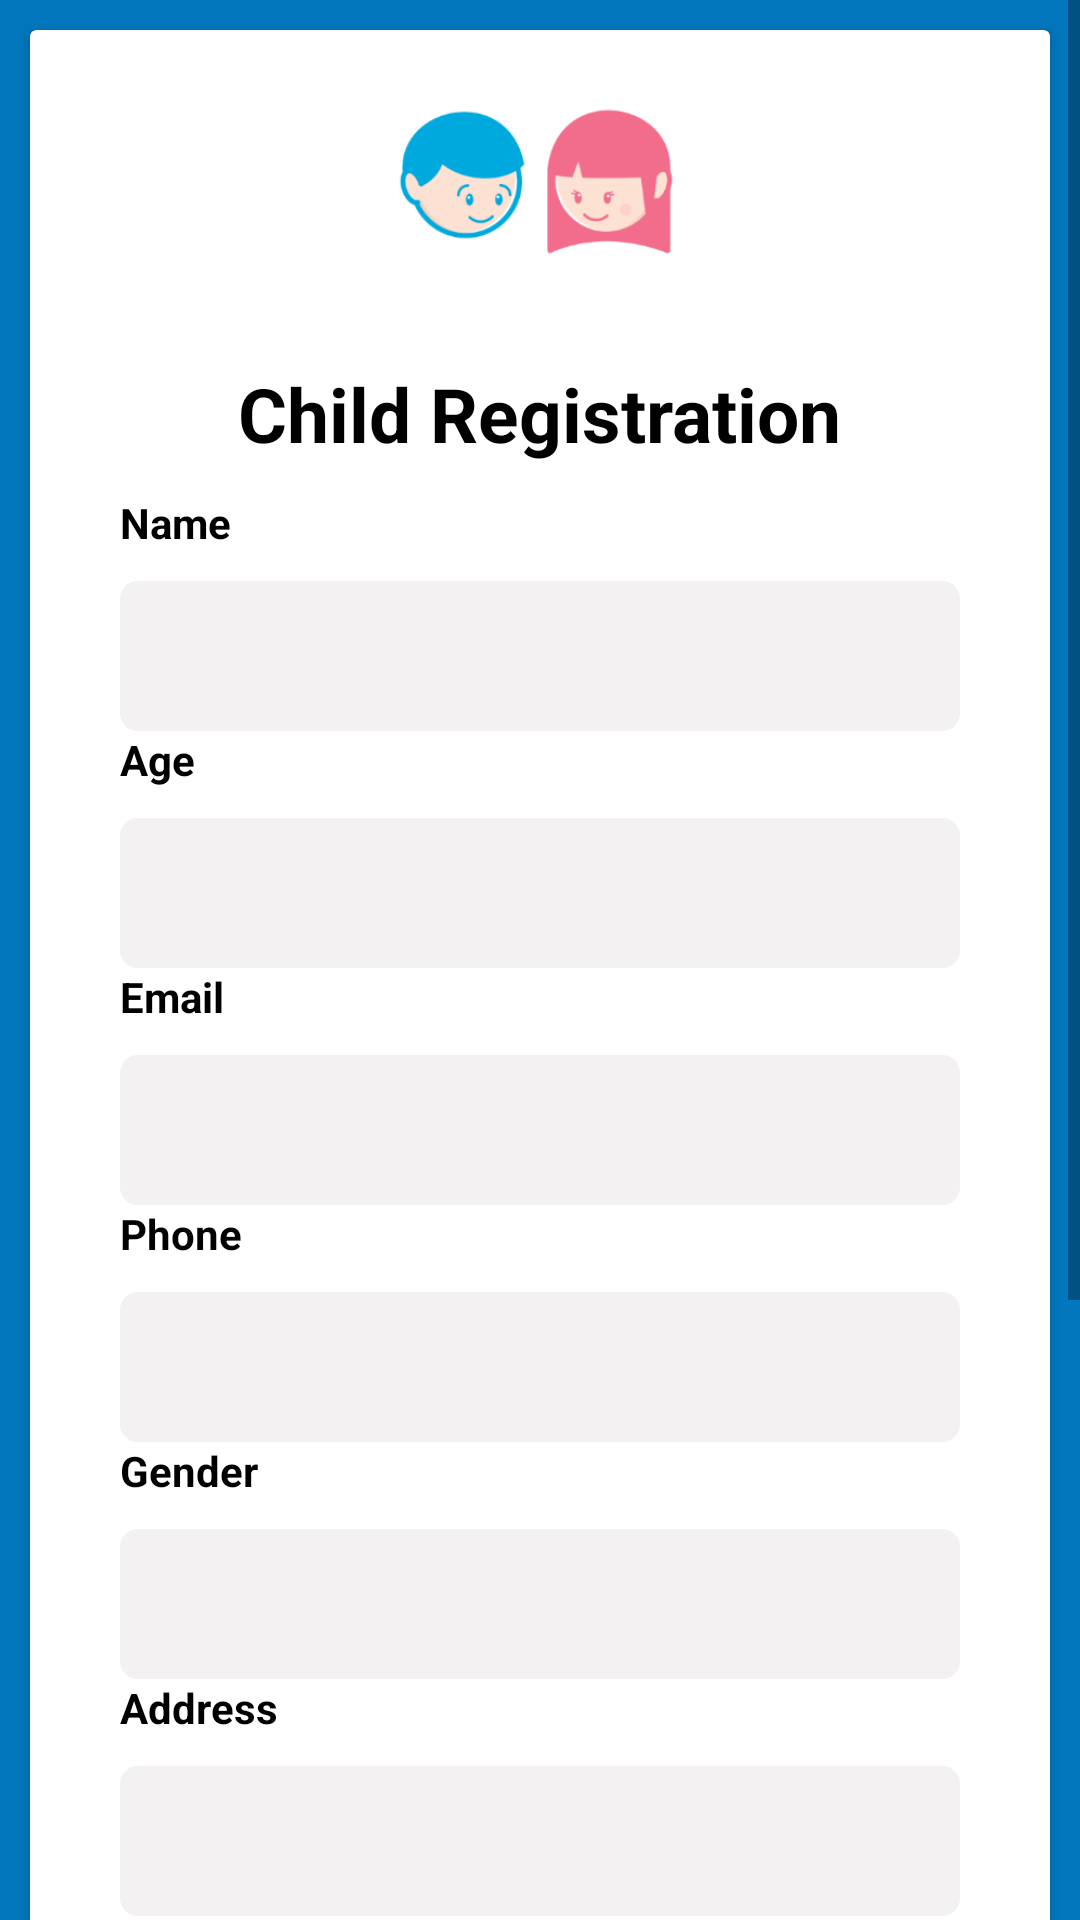

Icon bounding boxes for this 1080w x 1920h phone screenshot, format bbox=[x1, y1, x2, y2]:
childicon: bbox=[400, 110, 673, 254]
